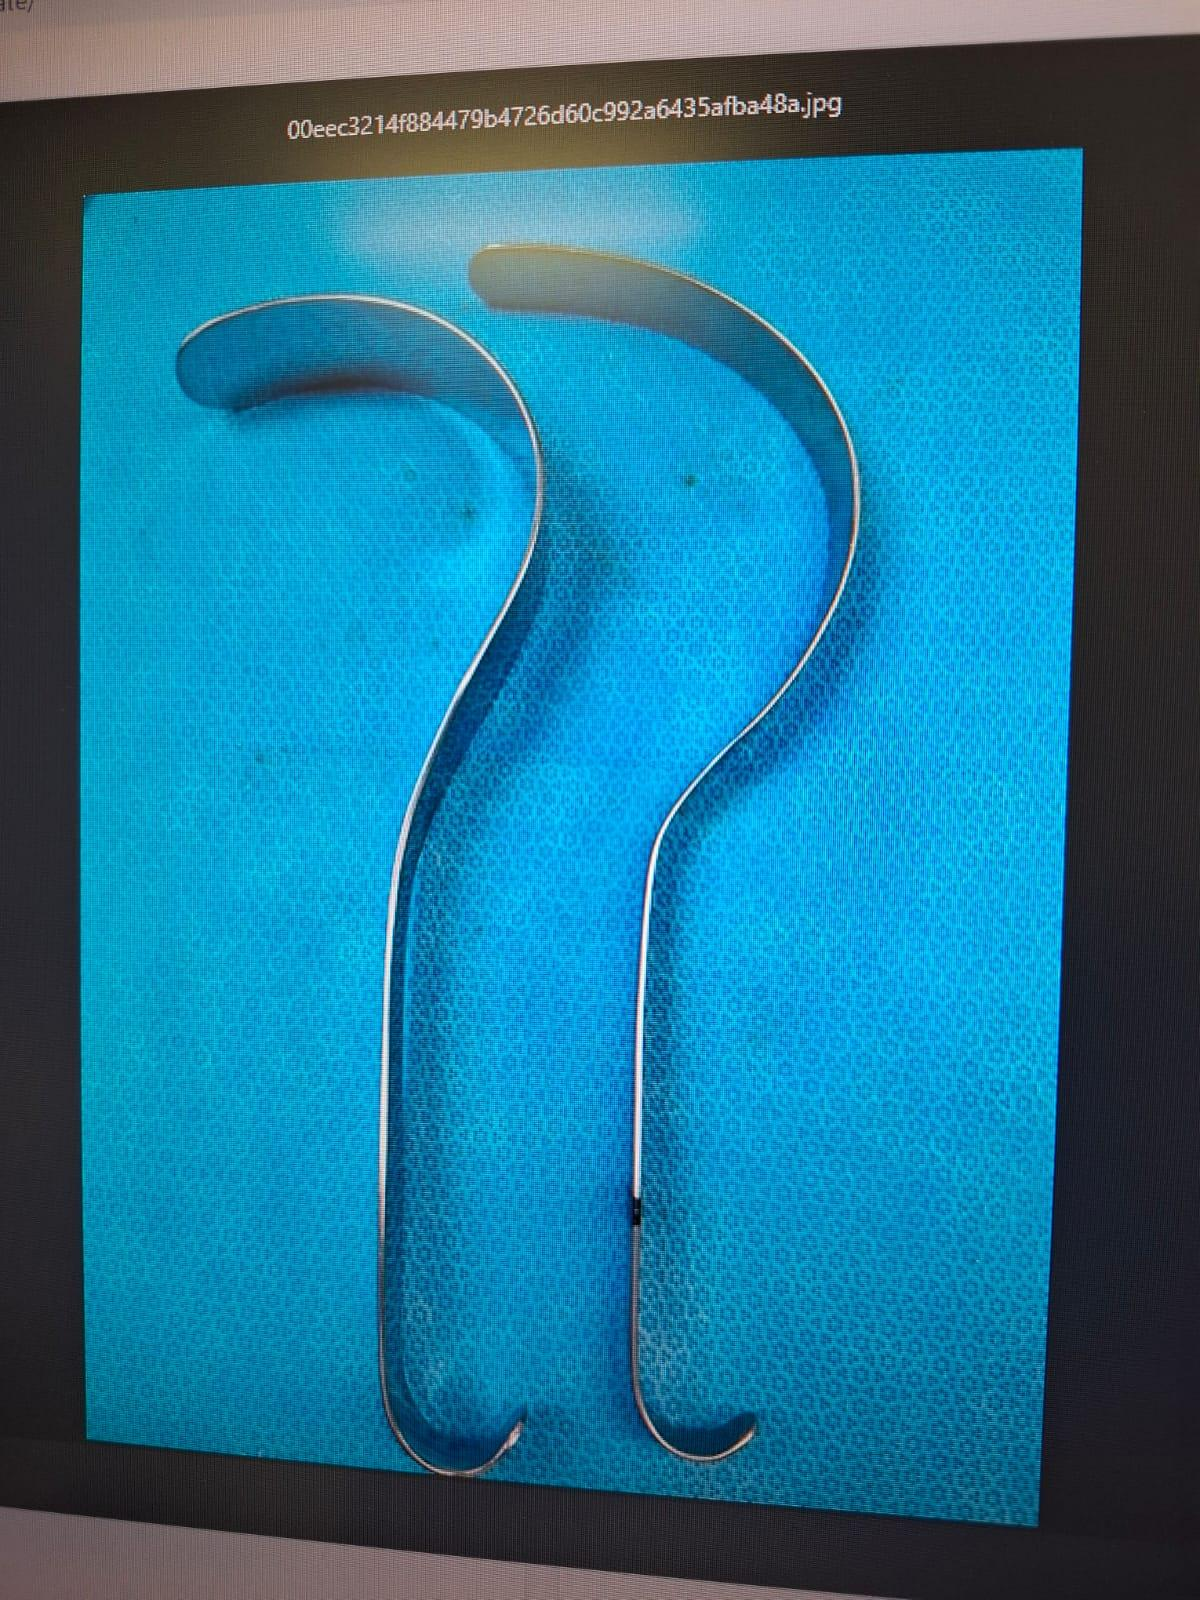Deaver Retractor: (452, 230, 885, 1477), (160, 280, 568, 1498)
